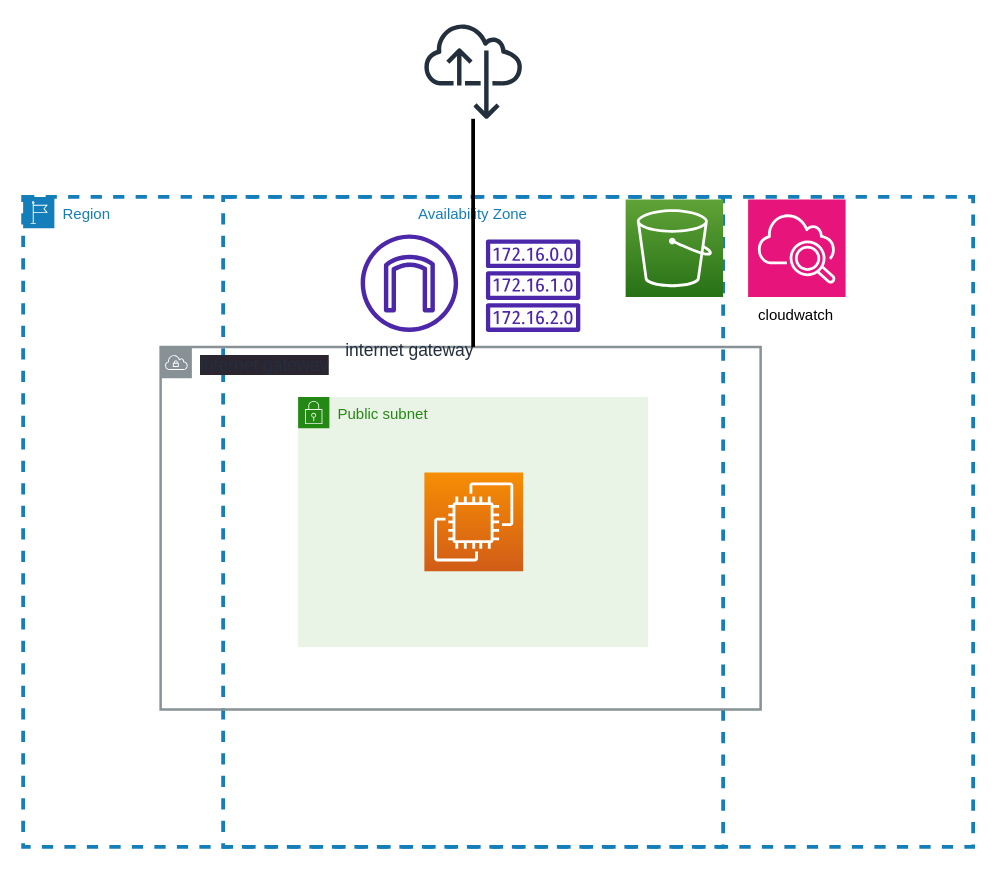
Some shapes in this 996 by 870 pixel diagram are drawn without their labels. The box of each missing label's shape, as (x1, y1, x2, y2) in pixels:
route table: (485, 239, 580, 331)
s3 bucket: (624, 198, 723, 297)
